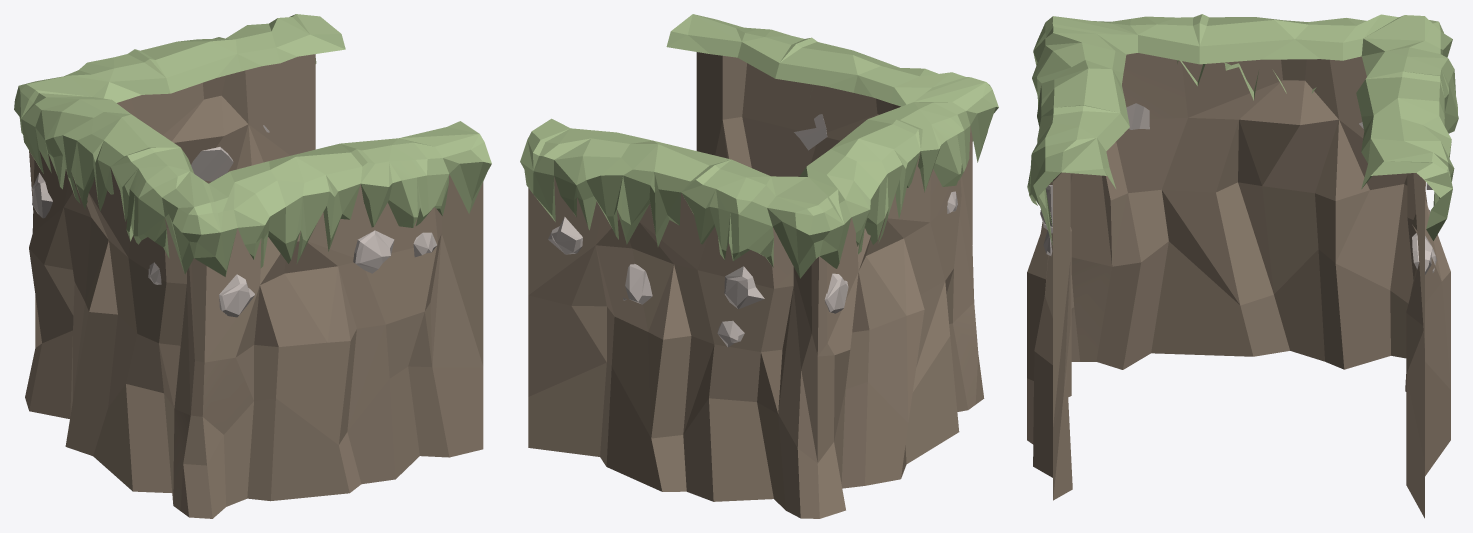
Rendered from ER_Terrain_1x1_Grass3sided_001_A1.fbx.
3 renders of one model, left to right at view 1: azimuth 30°, elevation 25°; view 2: azimuth 150°, elevation 25°; view 3: azimuth 270°, elevation 25°, orthographic. The views are drawn at different scales.
Parts seen in each view (by area): view 1: ER_Terrain_1x1_Grass3sided_001_A1; view 2: ER_Terrain_1x1_Grass3sided_001_A1; view 3: ER_Terrain_1x1_Grass3sided_001_A1.
Boxes of the visible parts, x1=… form: ER_Terrain_1x1_Grass3sided_001_A1: x1=14, y1=14, x2=491, y2=518; ER_Terrain_1x1_Grass3sided_001_A1: x1=520, y1=14, x2=998, y2=518; ER_Terrain_1x1_Grass3sided_001_A1: x1=1027, y1=14, x2=1458, y2=518.
Bounding box in the file's own units: 1.07 × 1.06 × 1.16.
